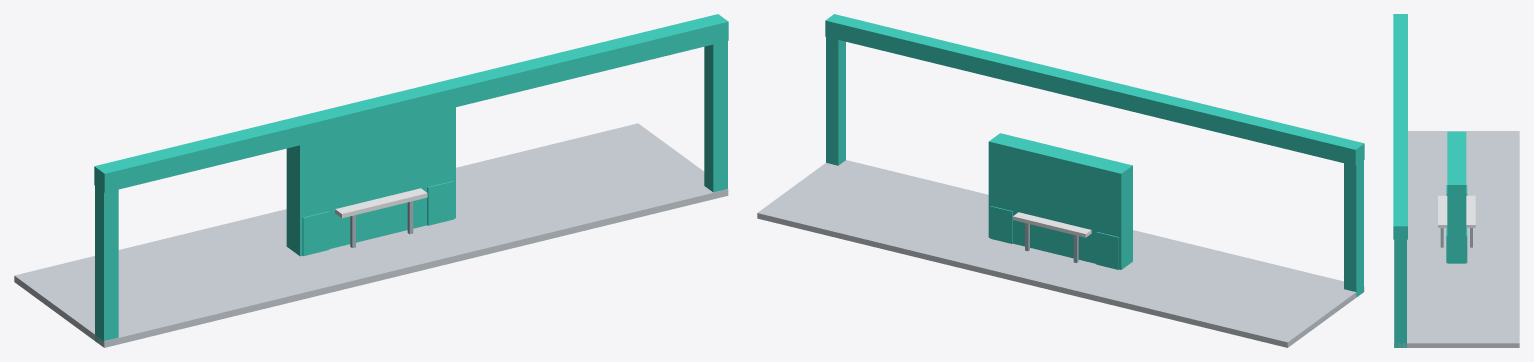
3 views of the same model, side by side, from view 1: azimuth 30°, elevation 25°; view 2: azimuth 150°, elevation 25°; view 3: azimuth 270°, elevation 25° (orthographic). The views are drawn at different scales.
Parts seen in each view (by area): view 1: Exhibition Booth Concept; view 2: Exhibition Booth Concept; view 3: Exhibition Booth Concept.
Boxes of the visible parts, box(x1,y1,x2,y2) form: Exhibition Booth Concept: box(14, 14, 728, 347); Exhibition Booth Concept: box(757, 14, 1364, 347); Exhibition Booth Concept: box(1393, 14, 1519, 347).
Size of the model in its own units: 12 by 3.2 by 3.01.
